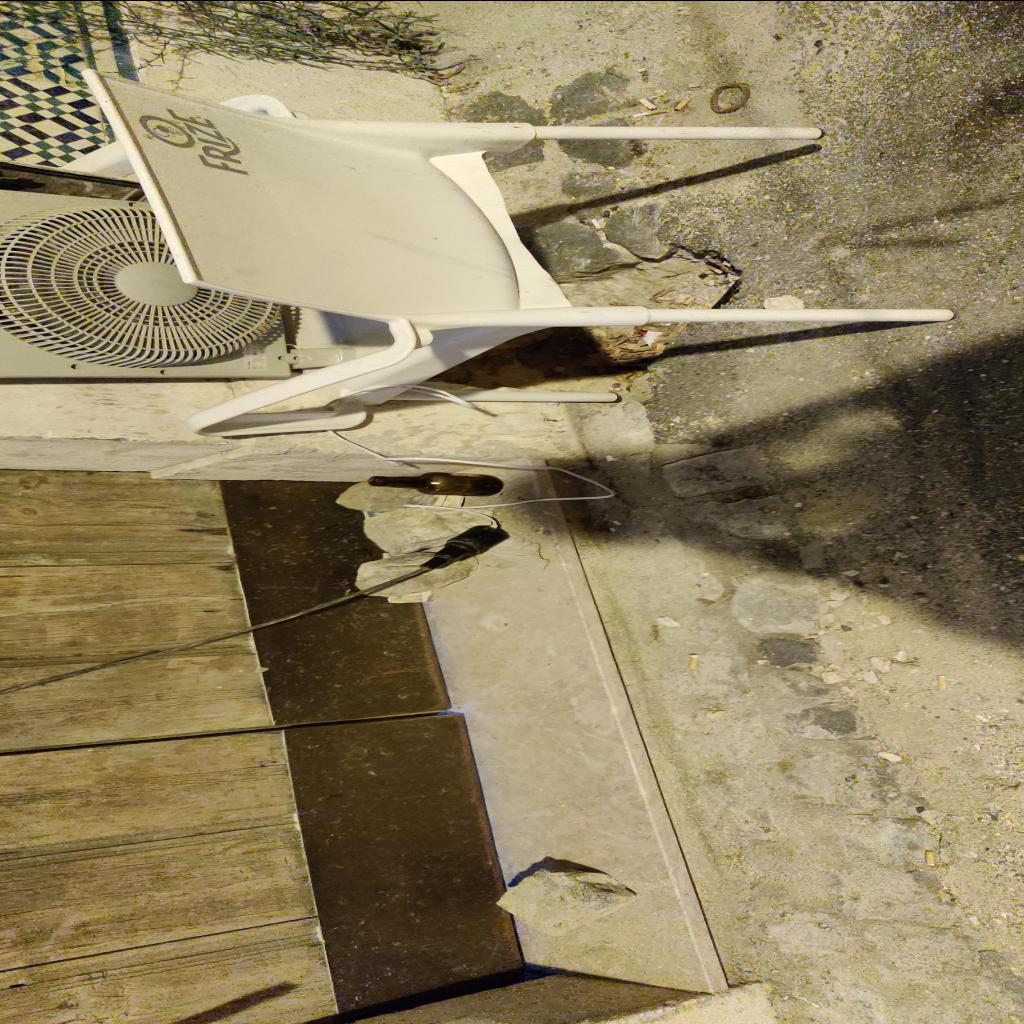Cigarette: (674, 96, 692, 110), (642, 106, 666, 116), (706, 264, 728, 274), (936, 674, 948, 690), (924, 851, 937, 865), (688, 653, 698, 669)
Glass bottle: (366, 472, 502, 496)
